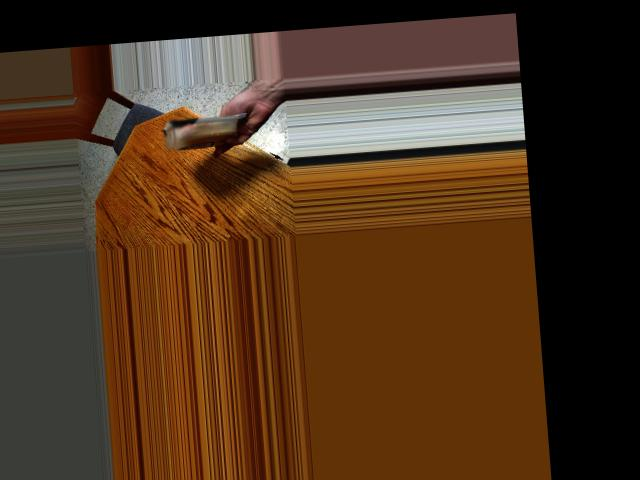cheese: (166, 98, 243, 153)
